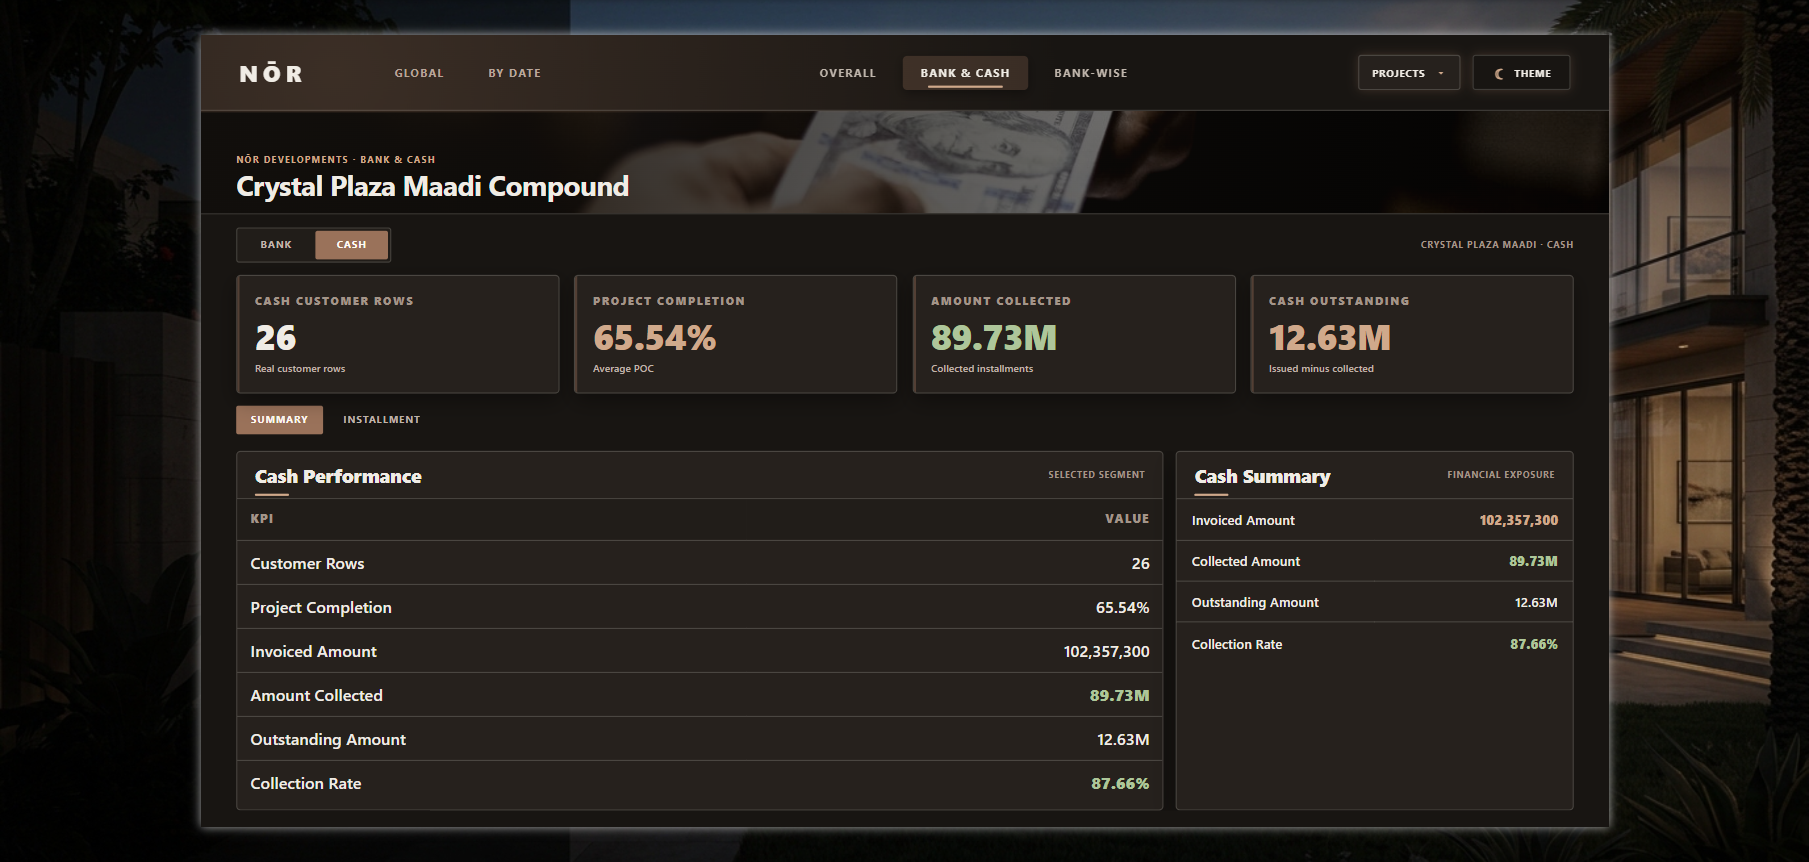

What the dashboard file says about the page in this screenshot:
{"tool":"powerbi","page":{"name":"Crystal Plaza Maadi","canvas":[1280,720],"ordinal":3},"visuals":[{"type":"htmlContent443BE3AD55E043BF878BED274D3A6855","fields":{"content":["HTML Visuals.HTML_CrystalPlaza_OnePage"]},"box":[0,0,1280,720],"z":0}]}

Visuals, with their boxes on the page's 1280x720 design canvas (x1, y1, x2, y2). These are canvas units, not pixel positions in the 1809x862 screenshot, which may show the page scaled, cropped or inside an application window:
htmlContent443BE3AD55E043BF878BED274D3A6855 - HTML Visuals.HTML_CrystalPlaza_OnePage: bbox(0, 0, 1280, 720)
